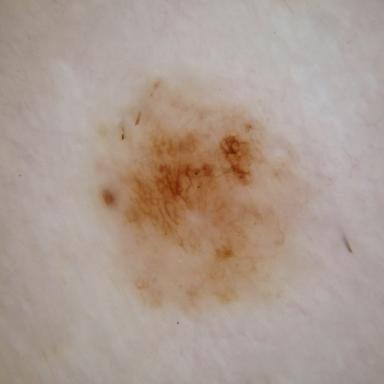nevus: (97, 79, 308, 309)
